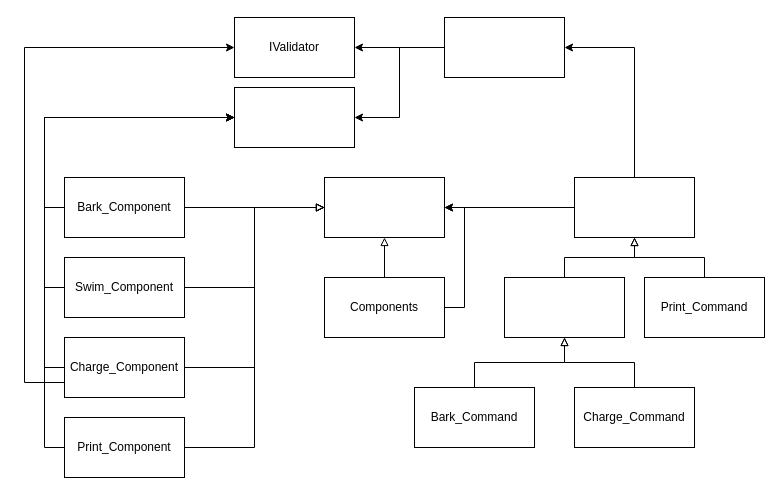
Image size: 782x495. Some labels were removed from this diagram. The box of each missing label's shape, as (x1, y1, x2, y2) in pixels:
Action_Command: (504, 276, 624, 338)
Command: (574, 176, 694, 238)
Component: (324, 176, 444, 238)
IHander: (234, 86, 354, 148)
Mediator: (444, 16, 564, 78)
